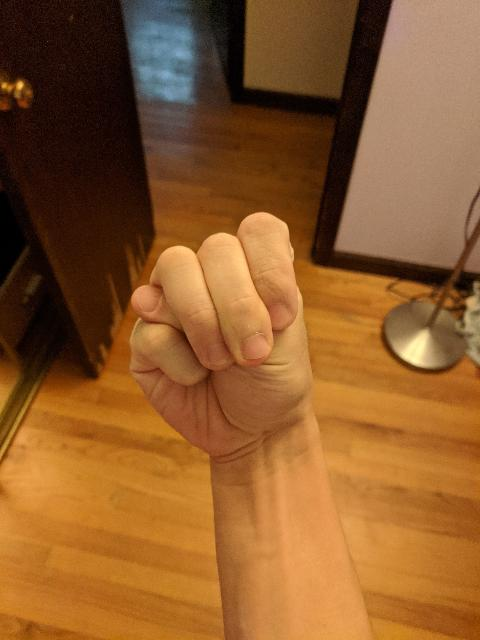M: (120, 206, 320, 458)
